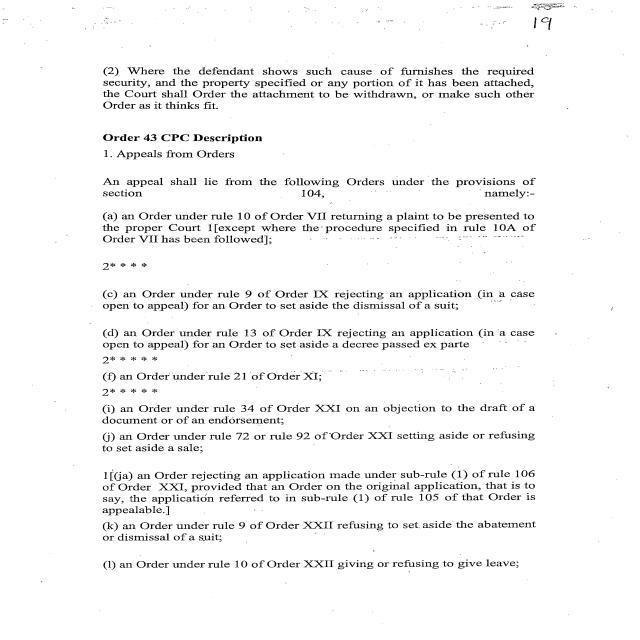page-number: (407, 0, 640, 66)
